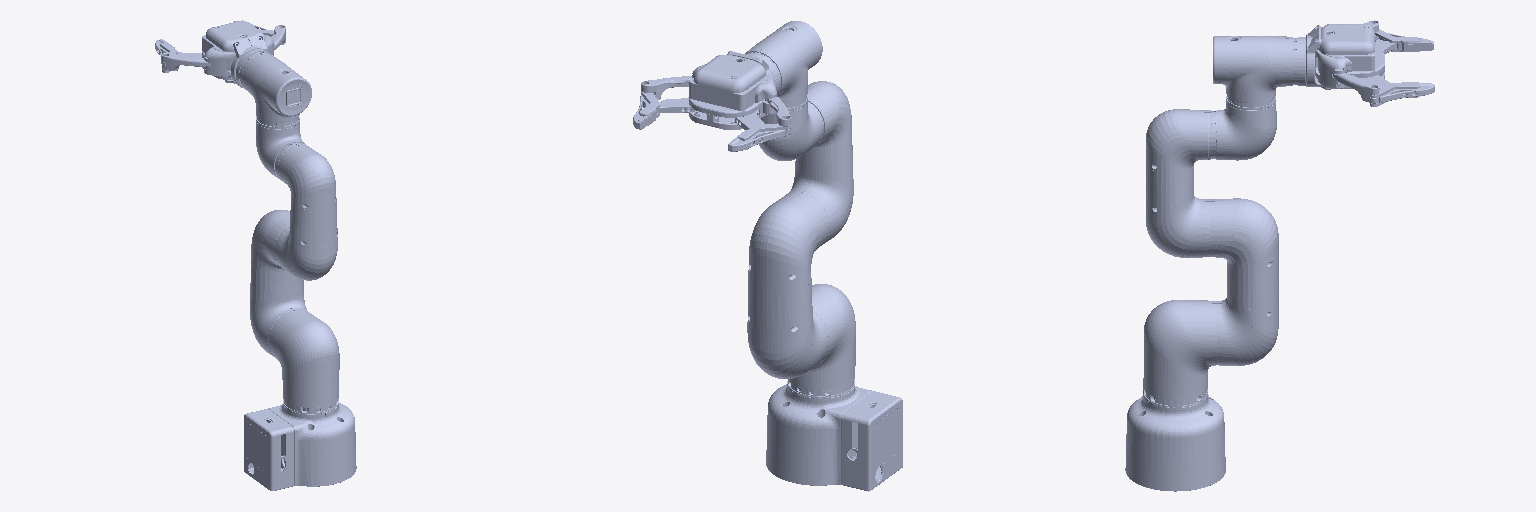
The robot description file, URDF, robot "firefighter":
<?xml version="1.0" encoding="utf-8" ?>
<!-- This URDF was automatically created by SolidWorks to URDF Exporter! Originally created by [author] ([email redacted]) 
     Commit Version: 1.6.0-4-g7f85cfe  Build Version: 1.6.7995.38578
     For more information, please see http://wiki.ros.org/sw_urdf_exporter -->
<robot name="firefighter">
    <link name="base">
        <inertial>
            <origin xyz="0.00864769538073963 0.0501201830062367 -0.0001269252675038" rpy="0 0 0" />
            <mass value="0.56970595235568" />
            <inertia ixx="0.000854432628304121" ixy="-2.27886028277217E-05" ixz="7.92812450025781E-08" iyy="0.00063647517455145" iyz="-1.68177277350718E-07" izz="0.000773078477351003" />
        </inertial>
        <visual>
            <origin xyz="0 0 0" rpy="0 0 0" />
            <geometry>
                <mesh filename="package://mycobot_description/meshes/base.STL" />
            </geometry>
            <material name="">
                <color rgba="0.792156862745098 0.819607843137255 0.933333333333333 1" />
            </material>
        </visual>
        <collision>
            <origin xyz="0 0 0" rpy="0 0 0" />
            <geometry>
                <mesh filename="package://mycobot_description/meshes/base.STL" />
            </geometry>
        </collision>
    </link>
    <link name="link1">
        <inertial>
            <origin xyz="-0.0229764852615092 -0.0693988337522376 -6.37776381810897E-05" rpy="0 0 0" />
            <mass value="0.301887728880534" />
            <inertia ixx="0.000350092302701137" ixy="-5.69640237858692E-05" ixz="-2.65395784957924E-07" iyy="0.000305852557006047" iyz="-3.07057068330416E-07" izz="0.000409310650724837" />
        </inertial>
        <visual>
            <origin xyz="0 0 0" rpy="0 0 0" />
            <geometry>
                <mesh filename="package://mycobot_description/meshes/link_1.STL" />
            </geometry>
            <material name="">
                <color rgba="0.792156862745098 0.819607843137255 0.933333333333333 1" />
            </material>
        </visual>
        <collision>
            <origin xyz="0 0 0" rpy="0 0 0" />
            <geometry>
                <mesh filename="package://mycobot_description/meshes/link_1.STL" />
            </geometry>
        </collision>
    </link>
    <link name="link2">
        <inertial>
            <origin xyz="3.69344307860183E-05 0.081364207071556 -0.0364962339199251" rpy="0 0 0" />
            <mass value="0.369827042467204" />
            <inertia ixx="0.00136957213034946" ixy="-4.19477008777462E-07" ixz="3.17066412374E-07" iyy="0.000219952881825987" iyz="-0.000122748918780218" izz="0.00143836489391043" />
        </inertial>
        <visual>
            <origin xyz="0 0 0" rpy="0 0 0" />
            <geometry>
                <mesh filename="package://mycobot_description/meshes/link_2.STL" />
            </geometry>
            <material name="">
                <color rgba="0.792156862745098 0.819607843137255 0.933333333333333 1" />
            </material>
        </visual>
        <collision>
            <origin xyz="0 0 0" rpy="0 0 0" />
            <geometry>
                <mesh filename="package://mycobot_description/meshes/link_2.STL" />
            </geometry>
        </collision>
    </link>
    <link name="link3">
        <inertial>
            <origin xyz="0.000128045162901544 0.0512525068477688 -0.0325120221562957" rpy="0 0 0" />
            <mass value="0.301266716820875" />
            <inertia ixx="0.000970410194369734" ixy="-2.55340572598396E-06" ixz="-7.42044375423772E-08" iyy="0.000146256044113372" iyz="9.03003451793476E-06" izz="0.00101269642178073" />
        </inertial>
        <visual>
            <origin xyz="0 0 0" rpy="0 0 0" />
            <geometry>
                <mesh filename="package://mycobot_description/meshes/link_3.STL" />
            </geometry>
            <material name="">
                <color rgba="0.792156862745098 0.819607843137255 0.933333333333333 1" />
            </material>
        </visual>
        <collision>
            <origin xyz="0 0 0" rpy="0 0 0" />
            <geometry>
                <mesh filename="package://mycobot_description/meshes/link_3.STL" />
            </geometry>
        </collision>
    </link>
    <link name="link4">
        <inertial>
            <origin xyz="0.000265082662692994 0.0334463380037113 0.0130845962740105" rpy="0 0 0" />
            <mass value="0.138639298635822" />
            <inertia ixx="0.000124610419570482" ixy="-4.93245678053435E-07" ixz="-4.88762988582506E-08" iyy="9.07985520863139E-05" iyz="-2.74497954244676E-05" izz="0.000103054238090649" />
        </inertial>
        <visual>
            <origin xyz="0 0 0" rpy="0 0 0" />
            <geometry>
                <mesh filename="package://mycobot_description/meshes/link_4.STL" />
            </geometry>
            <material name="">
                <color rgba="0.792156862745098 0.819607843137255 0.933333333333333 1" />
            </material>
        </visual>
        <collision>
            <origin xyz="0 0 0" rpy="0 0 0" />
            <geometry>
                <mesh filename="package://mycobot_description/meshes/link_4.STL" />
            </geometry>
        </collision>
    </link>
    <link name="link5">
        <inertial>
            <origin xyz="2.23278841472151E-06 0.0410281066595131 0.00683851385393441" rpy="0 0 0" />
            <mass value="0.223950798585031" />
            <inertia ixx="0.000190772660657992" ixy="1.18751021122271E-08" ixz="1.55601088172827E-08" iyy="0.000145172982922192" iyz="-1.22311890154089E-05" izz="0.000150100995836041" />
        </inertial>
        <visual>
            <origin xyz="0 0 0" rpy="0 0 0" />
            <geometry>
                <mesh filename="package://mycobot_description/meshes/link_5.STL" />
            </geometry>
            <material name="">
                <color rgba="0.792156862745098 0.819607843137255 0.933333333333333 1" />
            </material>
        </visual>
        <collision>
            <origin xyz="0 0 0" rpy="0 0 0" />
            <geometry>
                <mesh filename="package://mycobot_description/meshes/link_5.STL" />
            </geometry>
        </collision>
    </link>

    <link name="link6">
        <inertial>
            <origin xyz="-3.06995301368375E-07 0.0102162995717018 -9.99128442441544E-05" rpy="0 0 0" />
            <mass value="0.0401030543253866" />
            <inertia ixx="9.6762923694051E-06" ixy="1.0915252597982E-12" ixz="1.32278192667925E-10" iyy="1.75125666482584E-05" iyz="2.04538907434163E-08" izz="9.81088755486887E-06" />
        </inertial>
        <visual>
            <origin xyz="0 0 0" rpy="0 0 0" />
            <geometry>
                <mesh filename="package://mycobot_description/meshes/link_6.STL" />
            </geometry>
            <material name="">
                <color rgba="0.792156862745098 0.819607843137255 0.933333333333333 1" />
            </material>
        </visual>
        <collision>
            <origin xyz="0 0 0" rpy="0 0 0" />
            <geometry>
                <mesh filename="package://mycobot_description/meshes/link_6.STL" />
            </geometry>
        </collision>
    </link>

    <link name="gripper_base">
        <inertial>
            <origin xyz="-0.00798688220373683 -0.0120842301346442 0.0512045732219854" rpy="0 0 0" />
            <mass value="0.134693199067573" />
            <inertia ixx="9.16822440366729E-05" ixy="-2.26725184090963E-06" ixz="-2.52417147986972E-05" iyy="9.17248595574987E-05" iyz="2.48203691389261E-06" izz="9.15296683279762E-05" />
        </inertial>
        <visual>
            <origin xyz="0 0 0" rpy="0 0 0" />
            <geometry>
                <mesh filename="package://mycobot_description/meshes/gripper_base.STL" />
            </geometry>
            <material name="">
                <color rgba="0.792156862745098 0.819607843137255 0.933333333333333 1" />
            </material>
        </visual>
        <collision>
            <origin xyz="0 0 0" rpy="0 0 0" />
            <geometry>
                <mesh filename="package://mycobot_description/meshes/gripper_base.STL" />
            </geometry>
        </collision>
    </link>
    <link name="gripper_left3">
        <inertial>
            <origin xyz="-0.00355845256548371 -0.000298990677825101 -0.0278756299470882" rpy="0 0 0" />
            <mass value="0.00821077129483564" />
            <inertia ixx="2.24065862151985E-06" ixy="-1.65379908540206E-11" ixz="7.39945002380107E-11" iyy="1.90018900716357E-06" iyz="3.30309798274581E-07" izz="4.09688058940618E-07" />
        </inertial>
        <visual>
            <origin xyz="0 0 0" rpy="0 0 0" />
            <geometry>
                <mesh filename="package://mycobot_description/meshes/gripper_left3.STL" />
            </geometry>
            <material name="">
                <color rgba="0.792156862745098 0.819607843137255 0.933333333333333 1" />
            </material>
        </visual>
        <collision>
            <origin xyz="0 0 0" rpy="0 0 0" />
            <geometry>
                <mesh filename="package://mycobot_description/meshes/gripper_left3.STL" />
            </geometry>
        </collision>
    </link>
    
    <link name="gripper_left1">
        <inertial>
            <origin xyz="0.00318191031113946 0.0117963820236138 0.00342718940899311" rpy="0 0 0" />
            <mass value="0.0118729349511637" />
            <inertia ixx="1.03508703899277E-06" ixy="-1.33388291264996E-06" ixz="-1.72099398751629E-09" iyy="3.81061397749657E-06" iyz="-1.20028821999214E-09" izz="4.42845104471327E-06" />
        </inertial>
        <visual>
            <origin xyz="0 0 0" rpy="0 0 0" />
            <geometry>
                <mesh filename="package://mycobot_description/meshes/gripper_left1.STL" />
            </geometry>
            <material name="">
                <color rgba="0.792156862745098 0.819607843137255 0.933333333333333 1" />
            </material>
        </visual>
        <collision>
            <origin xyz="0 0 0" rpy="0 0 0" />
            <geometry>
                <mesh filename="package://mycobot_description/meshes/gripper_left1.STL" />
            </geometry>
        </collision>
    </link>
    
    <link name="gripper_right3">
        <inertial>
            <origin xyz="0.0278756299517241 -0.0036505192380043 -0.000298990729776474" rpy="0 0 0" />
            <mass value="0.00821077129376719" />
            <inertia ixx="4.09688058948671E-07" ixy="7.39994076310894E-11" ixz="-3.30309798252761E-07" iyy="2.2406586208928E-06" iyz="1.65430609909643E-11" izz="1.90018900652836E-06" />
        </inertial>
        <visual>
            <origin xyz="0 0 0" rpy="0 0 0" />
            <geometry>
                <mesh filename="package://mycobot_description/meshes/gripper_right3.STL" />
            </geometry>
            <material name="">
                <color rgba="0.792156862745098 0.819607843137255 0.933333333333333 1" />
            </material>
        </visual>
        <collision>
            <origin xyz="0 0 0" rpy="0 0 0" />
            <geometry>
                <mesh filename="package://mycobot_description/meshes/gripper_right3.STL" />
            </geometry>
        </collision>
    </link> 
    <link name="gripper_right1">
        <inertial>
            <origin xyz="0.0031818922963909 -0.0117963613233088 0.00352016232501318" rpy="0 0 0" />
            <mass value="0.0118729653320581" />
            <inertia ixx="1.03508912571966E-06" ixy="1.33388571859194E-06" ixz="-1.7107343747182E-09" iyy="3.81061488541789E-06" iyz="1.23293358871832E-09" izz="4.42845106710356E-06" />
        </inertial>
        <visual>
            <origin xyz="0 0 0" rpy="0 0 0" />
            <geometry>
                <mesh filename="package://mycobot_description/meshes/gripper_right1.STL" />
            </geometry>
            <material name="">
                <color rgba="0.792156862745098 0.819607843137255 0.933333333333333 1" />
            </material>
        </visual>
        <collision>
            <origin xyz="0 0 0" rpy="0 0 0" />
            <geometry>
                <mesh filename="package://mycobot_description/meshes/gripper_right1.STL" />
            </geometry>
        </collision>
    </link>

    <link name="gripper_left2">
        <inertial>
            <origin xyz="0.035135 0.004321 -0.014224" rpy="0 0 0" />
            <mass value="0.0066293" />
            <inertia ixx="3.7451E-07" ixy="-5.2455E-07" ixz="-1.8743E-07" iyy="2.2876E-06" iyz="-4.7327E-08" izz="2.3864E-06" />
        </inertial>
        <visual>
            <origin xyz="0 0 0" rpy="0 0 0" />
            <geometry>
                <mesh filename="package://mycobot_description/meshes/gripper_left2.STL" />
            </geometry>
            <material name="">
                <color rgba="0.79216 0.81961 0.93333 1" />
            </material>
        </visual>
        <collision>
            <origin xyz="0 0 0" rpy="0 0 0" />
            <geometry>
                <mesh filename="package://mycobot_description/meshes/gripper_left2.STL" />
            </geometry>
        </collision>
    </link>

    <link name="gripper_right2">
        <inertial>
            <origin xyz="0.035135 -0.004321 -0.014224" rpy="0 0 0" />
            <mass value="0.0066295" />
            <inertia ixx="3.7452E-07" ixy="5.2455E-07" ixz="-1.8744E-07" iyy="2.2876E-06" iyz="4.7323E-08" izz="2.3864E-06" />
        </inertial>
        <visual>
            <origin xyz="0 0 0" rpy="0 0 0" />
            <geometry>
                <mesh filename="package://mycobot_description/meshes/gripper_right2.STL" />
            </geometry>
            <material name="">
                <color rgba="0.79216 0.81961 0.93333 1" />
            </material>
        </visual>
        <collision>
            <origin xyz="0 0 0" rpy="0 0 0" />
            <geometry>
                <mesh filename="package://mycobot_description/meshes/gripper_right2.STL" />
            </geometry>
        </collision>
    </link>
    
    <joint name="joint2_to_joint1" type="revolute">
        <origin xyz="0 0 0.096683" rpy="-1.5708 0 -1.5708" />
        <parent link="base" />
        <child link="link1" />
        <axis xyz="0 -1 0" />
        <limit lower="-2.87" upper="2.87" effort="1000" velocity="0" />
    </joint>
    <joint name="joint3_to_joint2" type="revolute">
        <origin xyz="-0.039863 -0.078717 0" rpy="0 -1.5708 3.14" />
        <parent link="link1" />
        <child link="link2" />
        <axis xyz="0 0 -1" />
        <limit lower="-2.879" upper="2.879" effort="1000" velocity="0" />
    </joint>
    <joint name="joint4_to_joint3" type="revolute">
        <origin xyz="0 0.135 0" rpy="3.1416 0 -3.1416" />
        <parent link="link2" />
        <child link="link3" />
        <axis xyz="0 0 1" />
        <limit lower="-2.879" upper="2.879" effort="1000" velocity="0" />
    </joint>
    <joint name="joint5_to_joint4" type="revolute">
        <origin xyz="0 0.12 0" rpy="1.5708 0 -3.1416" />
        <parent link="link3" />
        <child link="link4" />
        <axis xyz="0 1 0" />
        <limit lower="-2.879" upper="2.879" effort="1000" velocity="0" />
    </joint>
    <joint name="joint6_to_joint5" type="revolute">
        <origin xyz="0 0.047817 0.044983" rpy="1.5708 0 3.1416" />
        <parent link="link4" />
        <child link="link5" />
        <axis xyz="0 1 0" />
        <limit effort = "1000.0" lower = "-2.96" upper = "2.96" velocity = "0"/>
    </joint>
        <joint name="joint6output_to_joint6" type="revolute">
        <origin xyz="0 0.049717 0.044983" rpy="1.5708 0 3.1416" />
        <parent link="link5" />
        <child link="link6" />
        <axis xyz="0 1 0" />
        <limit lower="-3.05" upper="3.05" effort="1000" velocity="0" />
    </joint>
    <joint name="joint6output_to_gripper_base" type="fixed">
        <origin xyz="0.030617 0.046717 -0.030618" rpy="0 0.7854 3.1416" />
        <parent link="link6" />
        <child link="gripper_base" />
        <axis xyz="0 0 0" />
    </joint>
    <joint name="gripper_controller" type="revolute">
        <origin xyz="0.02052 -0.033 0.048688" rpy="-2.5731 0.7854 0" />
        <parent link="gripper_base" />
        <child link="gripper_left3" />
        <axis xyz="1 0 0" />
        <limit lower="0" upper="1.0" effort="1000" velocity="0" />
    </joint>
    
    <joint name="gripper_base_to_gripper_left2" type="revolute">
        <origin xyz="0.039098 -0.010685 0.066982" rpy="-2.6409 -0.63332 -0.7463" />
        <parent link="gripper_base" />
        <child link="gripper_left2" />
        <limit effort = "1000.0" lower = "-3.141592" upper = "3.141592" velocity = "0"/>
        <axis xyz="0 0 1" />
        <mimic joint="gripper_controller" multiplier="1" offset="0" />
    </joint>
    
    <joint name="gripper_left3_to_gripper_left1" type="revolute">
        <origin xyz="0 0.009756 -0.06" rpy="-1.5708 -0.28451 1.5708" />
        <parent link="gripper_left3" />
        <child link="gripper_left1" />
        <axis xyz="0 0 1" />
        <limit lower="-3.141592" upper="3.141592" effort="0" velocity="0" />
        <mimic joint="gripper_controller" multiplier="1" offset="0" />
    </joint>
    <joint name="gripper_base_to_gripper_right3" type="revolute">
        <origin xyz="-0.0053222 -0.033 0.022714" rpy="-1.0704 0.6336 -2.3959" />
        <parent link="gripper_base" />
        <child link="gripper_right3" />
        <axis xyz="0 1 0" />
        <limit lower="-3.141592" upper="3.141592" effort="1000" velocity="0" />
        <mimic joint="gripper_controller" multiplier="-1" offset="0" />
    </joint>
    <joint name="gripper_base_to_gripper_right2" type="revolute">
        <origin xyz="-0.023682 -0.010685 0.004202" rpy="-2.6409 0.63332 -2.3953" />
        <parent link="gripper_base" />
        <child link="gripper_right2" />
        <axis xyz="0 0 1" />
        <limit effort = "1000.0" lower = "-3.141592" upper = "3.141592" velocity = "0"/>
        <mimic joint="gripper_controller" multiplier="-1" offset="0" />
    </joint>
        <joint name="gripper_right3_to_gripper_right1" type="revolute">
        <origin xyz="0.06 0 0.009756" rpy="-1.5708 -1.2863 -3.1416" />
        <parent link="gripper_right3" />
        <child link="gripper_right1" />
        <axis xyz="0 0 1" />
        <limit lower="-3.141592" upper="3.141592" effort="0" velocity="0" />
        <mimic joint="gripper_controller" multiplier="-1" offset="0" />
    </joint>

</robot>

--- Render facts (derived) ---
The picture shows the robot from 3 angles, left to right: view 1: azimuth 30°, elevation 25°; view 2: azimuth 150°, elevation 25°; view 3: azimuth 270°, elevation 25°; orthographic projection.
Model firefighter with 14 links and 13 joints (12 revolute, 1 fixed), rooted at base, posed every joint at zero.
Links seen in each view (by area): view 1: base, link3, link1, link2, link5, gripper_base, link4, gripper_left2; view 2: base, link2, link3, gripper_base, link1, link5, link4, gripper_left1, gripper_right1, gripper_right2; view 3: link2, link3, base, link1, link5, gripper_base, link4, gripper_right1, link6, gripper_left1, gripper_right2.
Link boxes in pixels (bbox=[...]): base: bbox=[244, 403, 356, 490]; link3: bbox=[274, 144, 337, 280]; link1: bbox=[268, 309, 339, 413]; link2: bbox=[250, 210, 306, 356]; link5: bbox=[242, 54, 311, 128]; gripper_base: bbox=[202, 20, 273, 87]; link4: bbox=[256, 121, 305, 180]; gripper_left2: bbox=[162, 53, 210, 70]; base: bbox=[766, 384, 902, 491]; link2: bbox=[747, 192, 829, 378]; link3: bbox=[786, 81, 853, 243]; gripper_base: bbox=[689, 51, 776, 129]; link1: bbox=[787, 284, 855, 397]; link5: bbox=[747, 21, 822, 110]; link4: bbox=[759, 99, 826, 160]; gripper_left1: bbox=[728, 123, 790, 151]; gripper_right1: bbox=[633, 91, 659, 129]; gripper_right2: bbox=[641, 76, 691, 99]; link2: bbox=[1210, 198, 1278, 365]; link3: bbox=[1146, 109, 1209, 257]; base: bbox=[1125, 378, 1225, 491]; link1: bbox=[1144, 300, 1216, 407]; link5: bbox=[1213, 36, 1289, 109]; gripper_base: bbox=[1306, 24, 1384, 89]; link4: bbox=[1209, 101, 1276, 160]; gripper_right1: bbox=[1370, 82, 1434, 106]; link6: bbox=[1290, 37, 1305, 85]; gripper_left1: bbox=[1375, 29, 1433, 51]; gripper_right2: bbox=[1333, 73, 1378, 103].
Bounding box of the posed robot: 0.1887 × 0.3605 × 0.5635 m (x, y, z).
Meshes: 14 distinct files referenced, 14 mesh visuals loaded (14 binary STL).